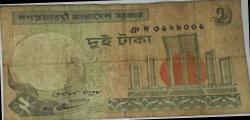2 taka: (2, 5, 244, 116)
